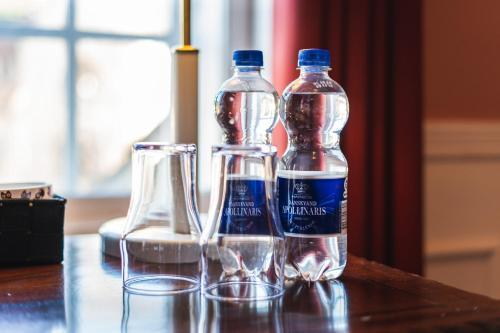bottle: (270, 40, 356, 290), (207, 43, 279, 280)
